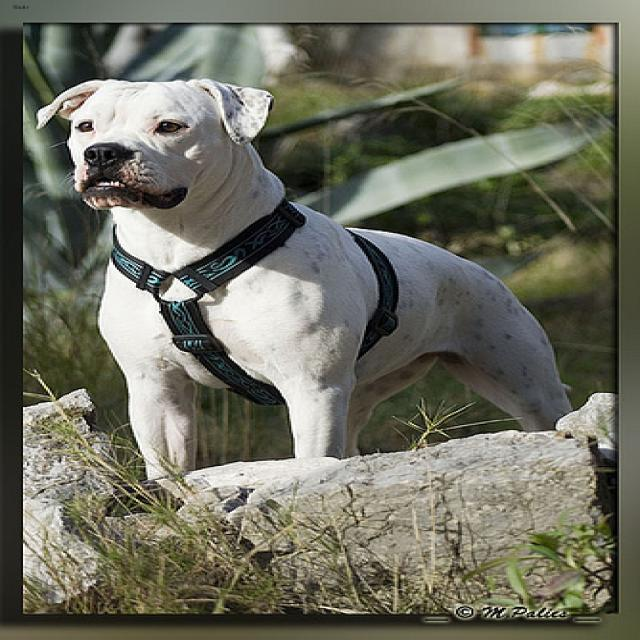dog-american_bulldog: (15, 72, 598, 486)
